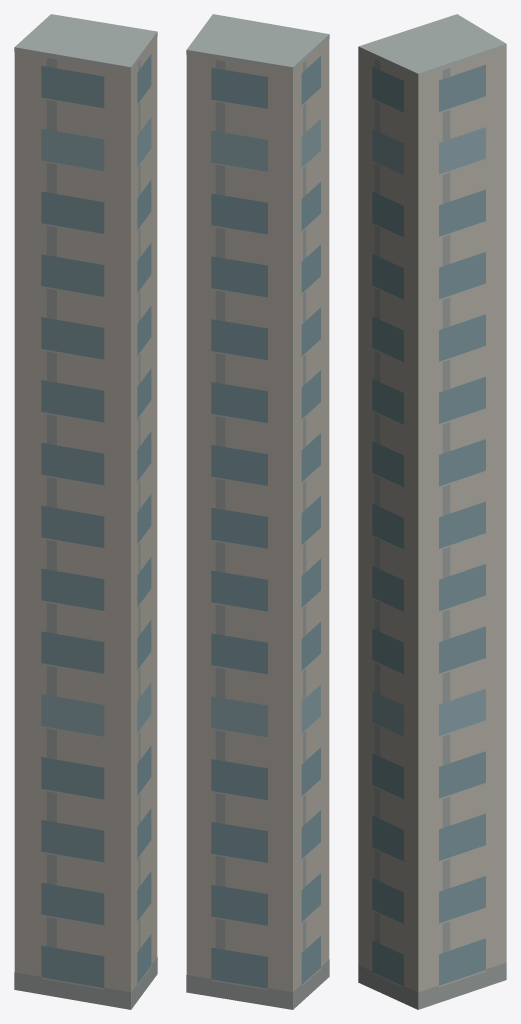
File: survey-upis-32649076.glb
The picture shows the model from 3 angles, left to right: view 1: azimuth 30°, elevation 25°; view 2: azimuth 210°, elevation 25°; view 3: azimuth 270°, elevation 25°; orthographic projection.
Visible parts, largest first — view 1: survey-upis-32649076.tmp; view 2: survey-upis-32649076.tmp; view 3: survey-upis-32649076.tmp.
Part boxes in pixels (x1,y1,x2,y2): survey-upis-32649076.tmp: (14, 14, 157, 1009); survey-upis-32649076.tmp: (186, 14, 329, 1009); survey-upis-32649076.tmp: (358, 14, 506, 1009).
Bounding box in the file's own units: 6.27 × 45.75 × 6.57.
